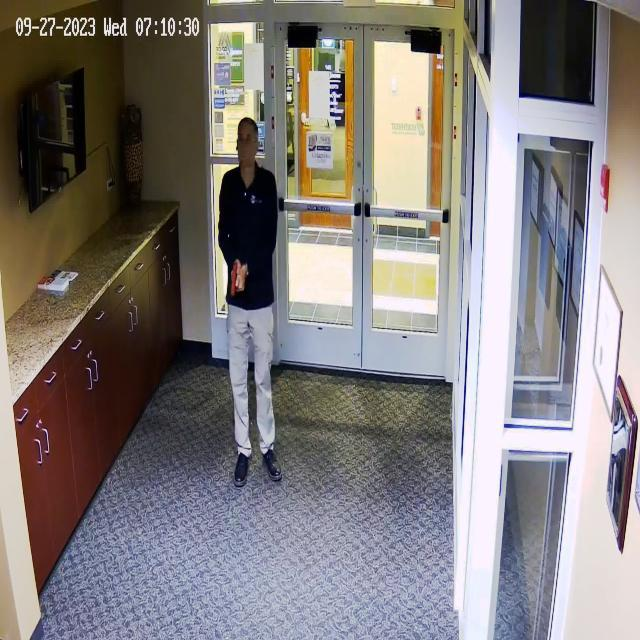Gun: (222, 253, 256, 301)
